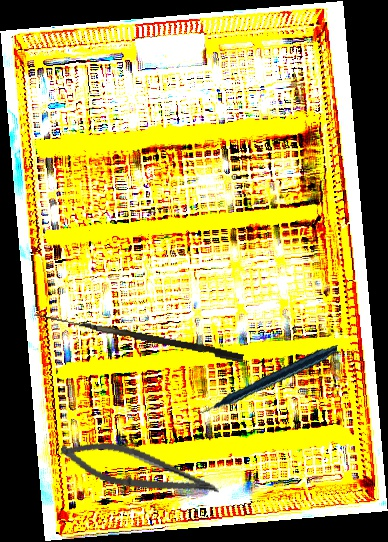Handpiece: (193, 320, 338, 437)
Hook Surgical: (32, 313, 245, 363)
Micro Scissor: (56, 432, 225, 505)
